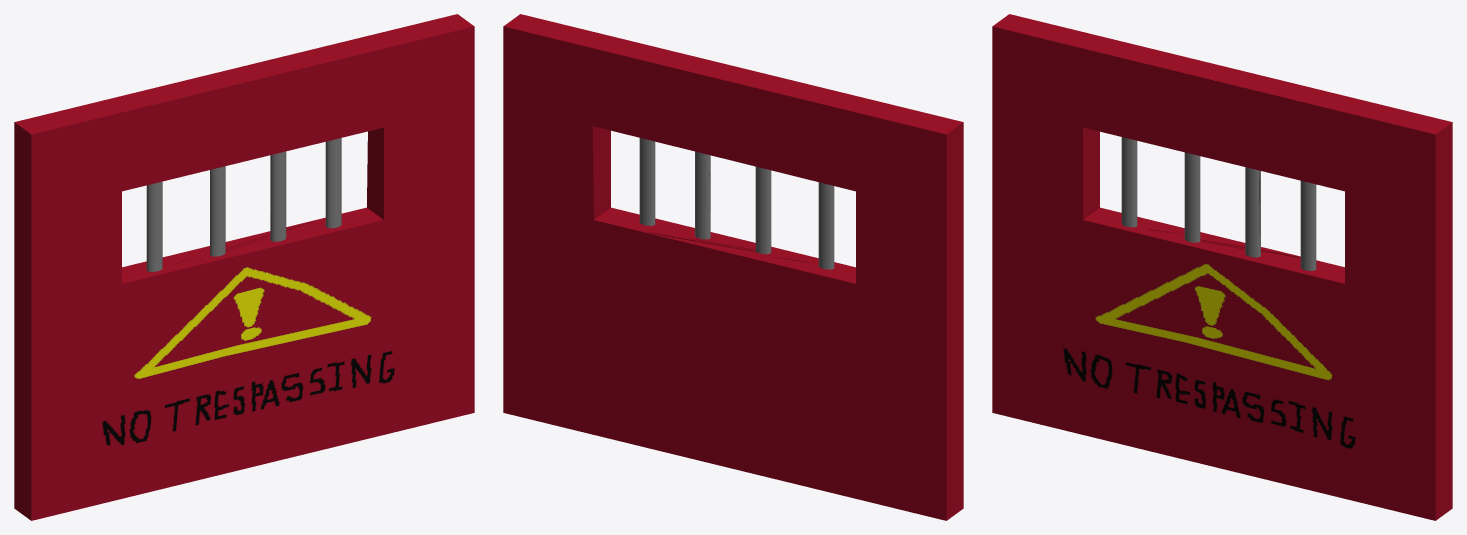
The model's file is BackDoor.fbx.
The picture shows the model from 3 angles, left to right: view 1: azimuth 30°, elevation 25°; view 2: azimuth 150°, elevation 25°; view 3: azimuth 330°, elevation 25°; orthographic projection.
Parts seen in each view (by area): view 1: Cube; view 2: Cube; view 3: Cube.
Boxes of the visible parts, <box> form: Cube: <box>14,14,474,520</box>; Cube: <box>503,14,963,520</box>; Cube: <box>992,14,1452,520</box>.
Size of the model in its own units: 300 by 20 by 250.
